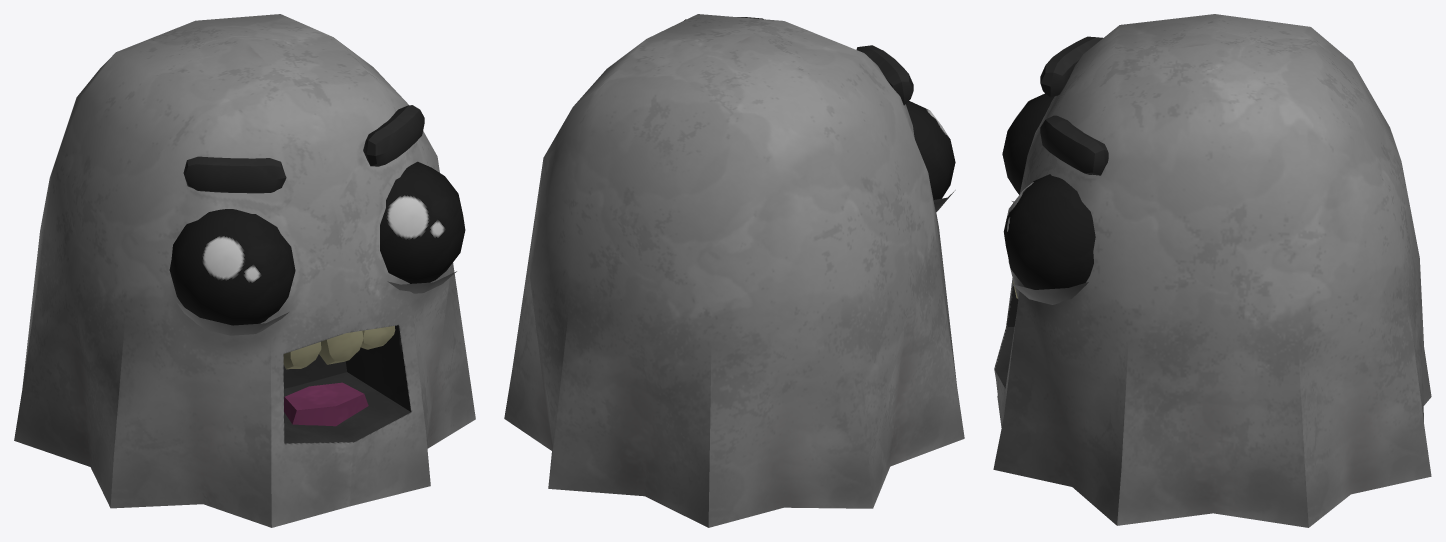
File: lich.glb
The picture shows the model from 3 angles, left to right: view 1: azimuth 30°, elevation 25°; view 2: azimuth 150°, elevation 25°; view 3: azimuth 270°, elevation 25°; orthographic projection.
Visible parts, largest first — view 1: Ghost_Sphere.030; view 2: Ghost_Sphere.030; view 3: Ghost_Sphere.030.
Boxes of the visible parts, bbox=[...] form: Ghost_Sphere.030: bbox=[14, 14, 475, 527]; Ghost_Sphere.030: bbox=[504, 14, 964, 527]; Ghost_Sphere.030: bbox=[993, 14, 1431, 527].
Bounding box in the file's own units: 1.45 × 1.45 × 1.47.
1 material, 1 textured.
